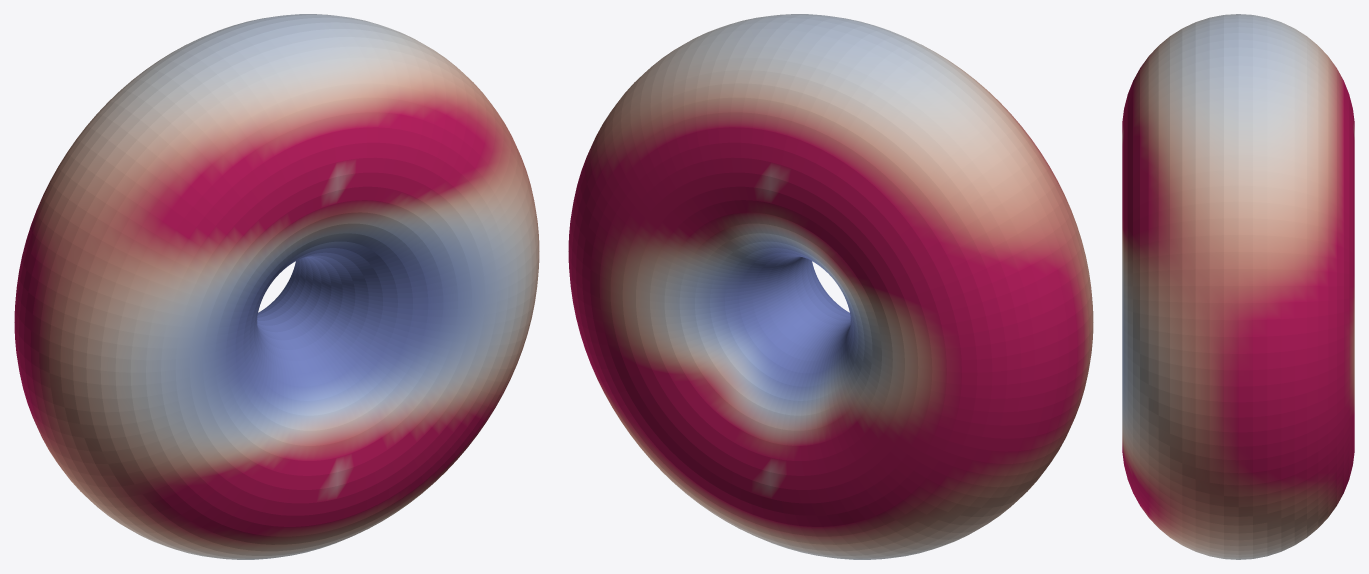
3 renders of one model, left to right at view 1: azimuth 30°, elevation 25°; view 2: azimuth 150°, elevation 25°; view 3: azimuth 270°, elevation 25°, orthographic. The views are drawn at different scales.
Parts seen in each view (by area): view 1: world; view 2: world; view 3: world.
Part boxes in pixels (x1=…): world: x1=14, y1=14, x2=539, y2=559; world: x1=568, y1=14, x2=1093, y2=559; world: x1=1122, y1=14, x2=1354, y2=559.
Bounding box in the file's own units: 20.93 × 20.93 × 8.92.
